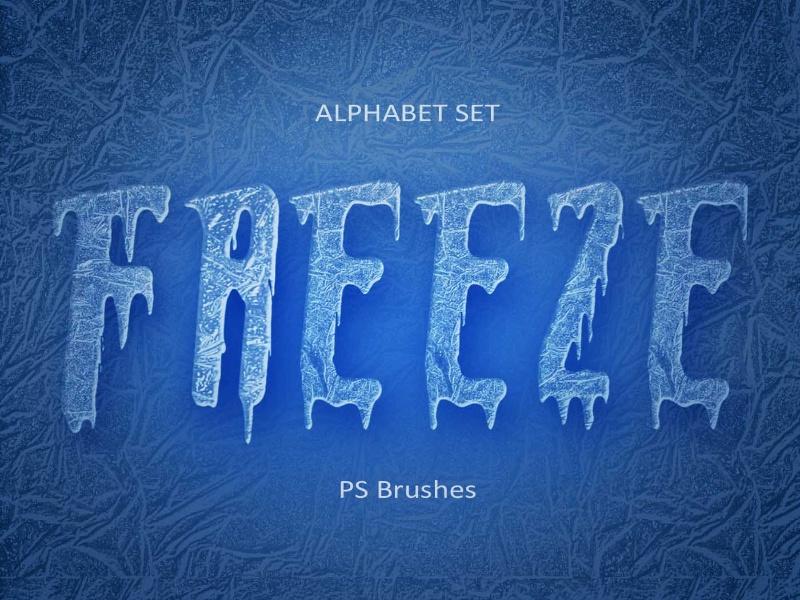letters: (47, 174, 189, 447), (291, 176, 414, 447), (412, 173, 535, 435), (180, 165, 285, 461), (641, 174, 762, 423), (529, 172, 637, 430), (362, 98, 385, 129), (338, 473, 356, 507), (450, 97, 472, 124), (374, 474, 393, 503), (401, 99, 419, 129), (333, 100, 352, 128), (460, 478, 482, 501), (433, 102, 453, 126), (382, 102, 402, 126), (347, 97, 362, 129), (313, 101, 330, 128), (446, 479, 465, 501), (433, 478, 449, 503), (485, 101, 505, 119), (415, 481, 430, 503), (353, 481, 367, 503), (474, 103, 487, 126), (419, 97, 429, 126), (390, 482, 401, 508), (407, 484, 418, 501)
